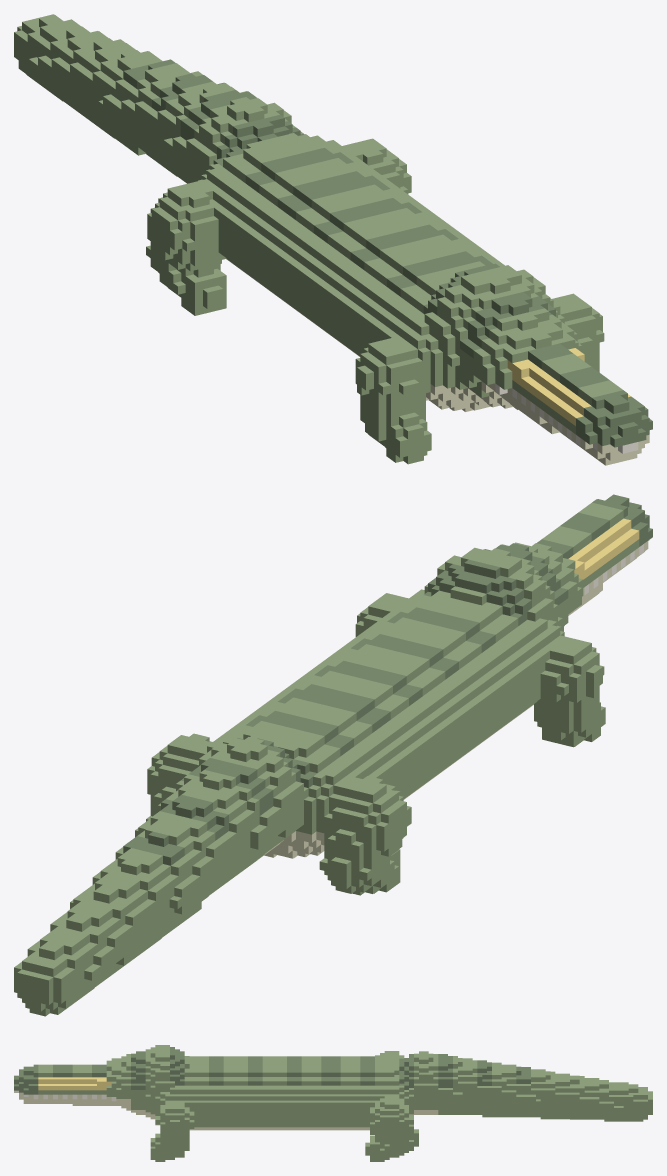
File: crocodile.glb
3 renders of one model, top to bottom at view 1: azimuth 30°, elevation 25°; view 2: azimuth 150°, elevation 25°; view 3: azimuth 270°, elevation 25°, orthographic. The views are drawn at different scales.
Visible parts, largest first — view 1: item; view 2: item; view 3: item.
Boxes of the visible parts, x1,y1,x2,y2 form: item: [14, 14, 652, 465]; item: [14, 494, 652, 1016]; item: [14, 1045, 652, 1161].
Size of the model in its own units: 30 by 19 by 131.
